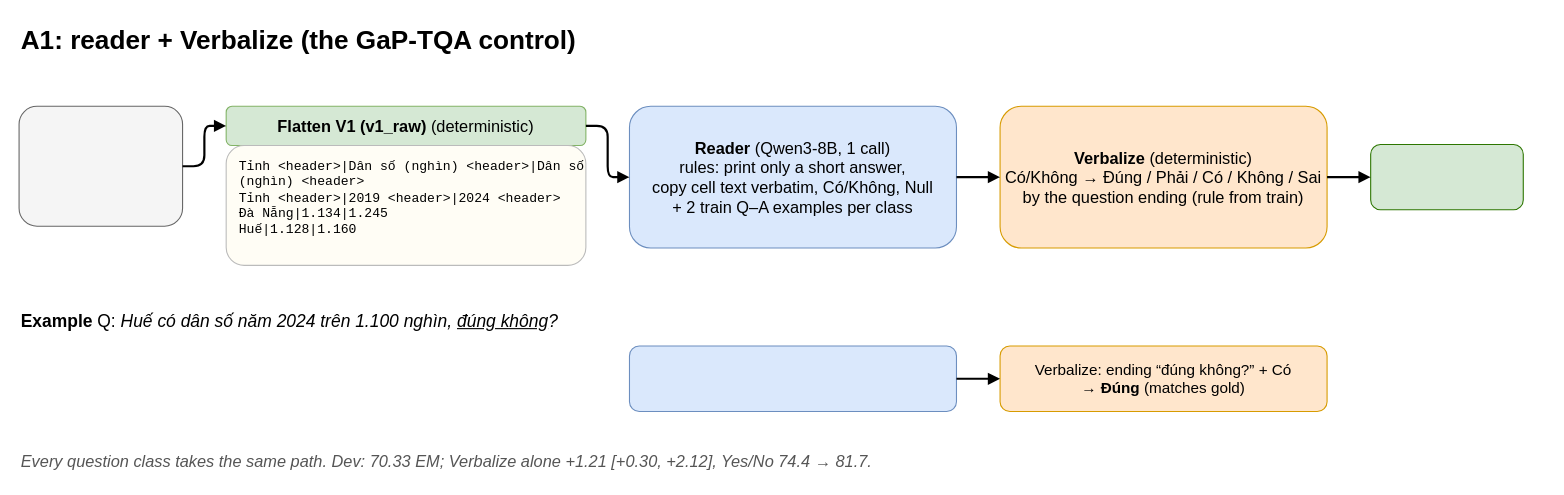
This 1564x495 diagram has some shape labels left out. The centre of each missing label's shape, as x and y in pixels:
Answer: (1446,176)
Question + HTML table: (100,165)
Reader returns: Có gold is “Đúng” → EM miss: (792,378)
